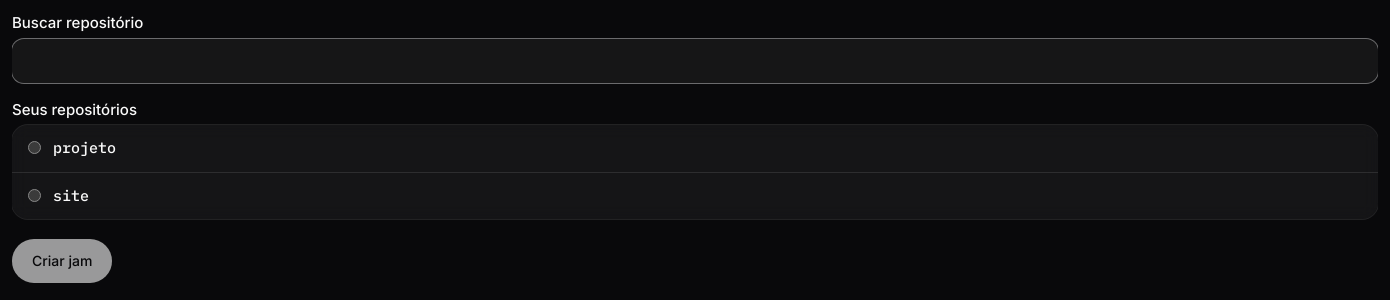
Test: importar repositório (Story 2.1) › o botão diz qual repositório vai ser usado, mesmo escondido pelo filtro (gate da 2.1, UX-001)
The width and height of the screenshot is (1390, 300).
Click the radio button labelled "site" at (34, 195), box [28, 188, 41, 202]
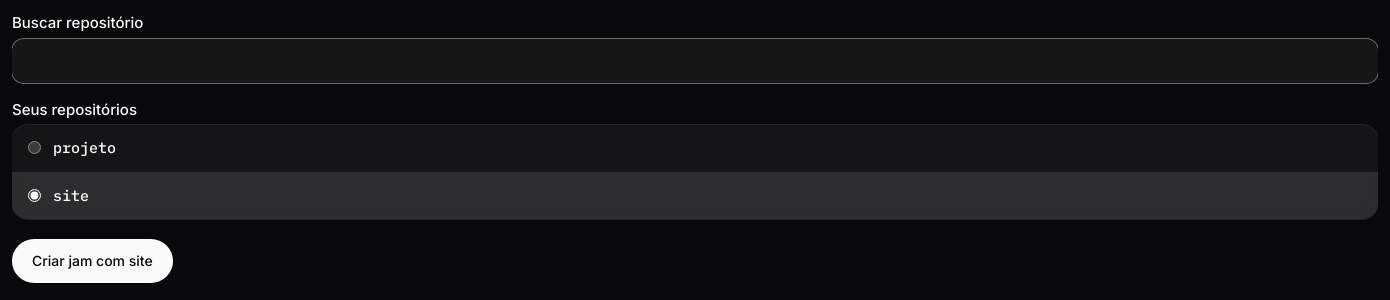
Type "proj" into the search field labelled "Buscar repositório" at (695, 60), box [12, 38, 1378, 82]
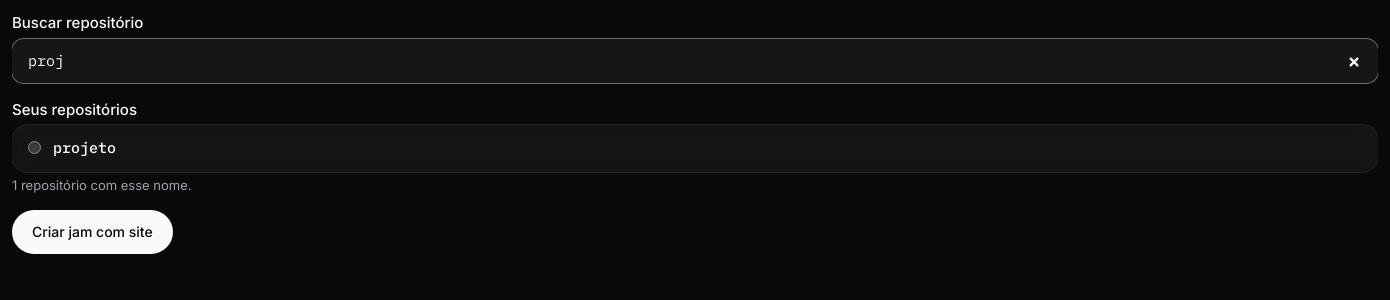
Result: the button "Criar jam com site" is enabled at [12, 210, 173, 254]
Result: the message reads "1 repositório com esse nome." at [12, 176, 192, 192]
